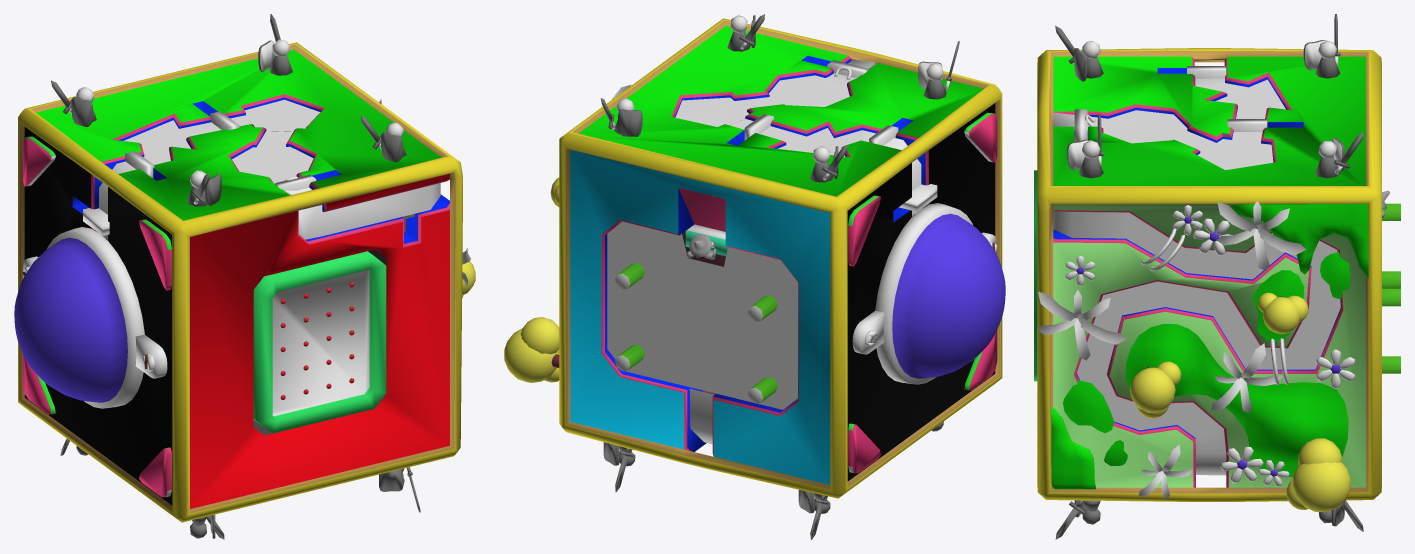
The model's file is CubeFinal.fbx.
3 renders of one model, left to right at view 1: azimuth 30°, elevation 25°; view 2: azimuth 150°, elevation 25°; view 3: azimuth 270°, elevation 25°, orthographic. The views are drawn at different scales.
Parts seen in each view (by area): view 1: FinalCube.002, Cube.009, Sphere, FinalCube.001, Plane, Cylinder.013, Cube.002, Cylinder.014, Cylinder.008, Cylinder.009, Cylinder.016, Cube.026; view 2: FinalCube.002, FinalCube.001, Sphere, Plane, Cube.012, Cube.013, Cylinder.008, Cylinder.006, Cylinder.005, Cube.002, Cylinder.013, Cylinder.009 (+4 smaller); view 3: FinalCube.002, FinalCube.001, Plane.002, Plane.005, Cube.012, Plane.003, Cube.010, Plane.007, Cube.008, Plane.004, Cylinder.014, Cylinder.009 (+21 smaller).
Part boxes in pixels (left/top/right/bottom): FinalCube.002: left=18, top=42, right=462, bottom=522; Cube.009: left=253, top=251, right=386, bottom=433; Sphere: left=14, top=227, right=144, bottom=408; FinalCube.001: left=99, top=99, right=440, bottom=239; Plane: left=22, top=136, right=171, bottom=497; Cylinder.013: left=258, top=14, right=292, bottom=75; Cube.002: left=23, top=256, right=167, bottom=378; Cylinder.014: left=360, top=116, right=406, bottom=162; Cylinder.008: left=187, top=170, right=221, bottom=206; Cylinder.009: left=51, top=80, right=96, bottom=127; Cylinder.016: left=379, top=467, right=420, bottom=512; Cube.026: left=83, top=208, right=109, bottom=235; FinalCube.002: left=559, top=18, right=1002, bottom=498; FinalCube.001: left=607, top=59, right=921, bottom=444; Sphere: left=875, top=203, right=1005, bottom=384; Plane: left=848, top=112, right=997, bottom=473; Cube.012: left=504, top=317, right=559, bottom=382; Cube.013: left=685, top=224, right=727, bottom=259; Cylinder.008: left=918, top=41, right=959, bottom=99; Cylinder.006: left=615, top=344, right=777, bottom=403; Cylinder.005: left=615, top=263, right=777, bottom=321; Cube.002: left=852, top=232, right=996, bottom=354; Cylinder.013: left=600, top=98, right=642, bottom=136; Cylinder.009: left=810, top=145, right=847, bottom=182; FinalCube.002: left=1037, top=48, right=1381, bottom=501; FinalCube.001: left=1053, top=78, right=1340, bottom=475; Plane.002: left=1125, top=323, right=1348, bottom=477; Plane.005: left=1230, top=204, right=1368, bottom=277; Cube.012: left=1286, top=438, right=1350, bottom=512; Plane.003: left=1051, top=408, right=1095, bottom=489; Cube.010: left=1130, top=361, right=1181, bottom=418; Plane.007: left=1063, top=380, right=1114, bottom=433; Cube.008: left=1257, top=292, right=1308, bottom=334; Plane.004: left=1252, top=270, right=1304, bottom=341; Cylinder.014: left=1067, top=113, right=1103, bottom=178; Cylinder.009: left=1303, top=14, right=1340, bottom=78.
Bounding box in the file's own units: 310 × 267 × 218.
